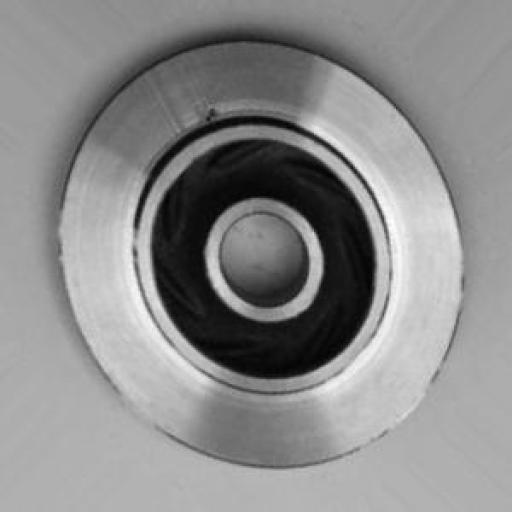defect: (188, 88, 239, 146)
